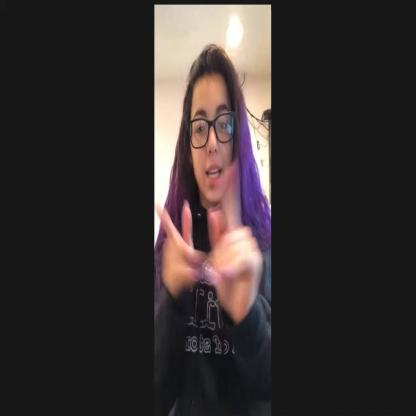NiceToMeetYou: (152, 180, 260, 322)
